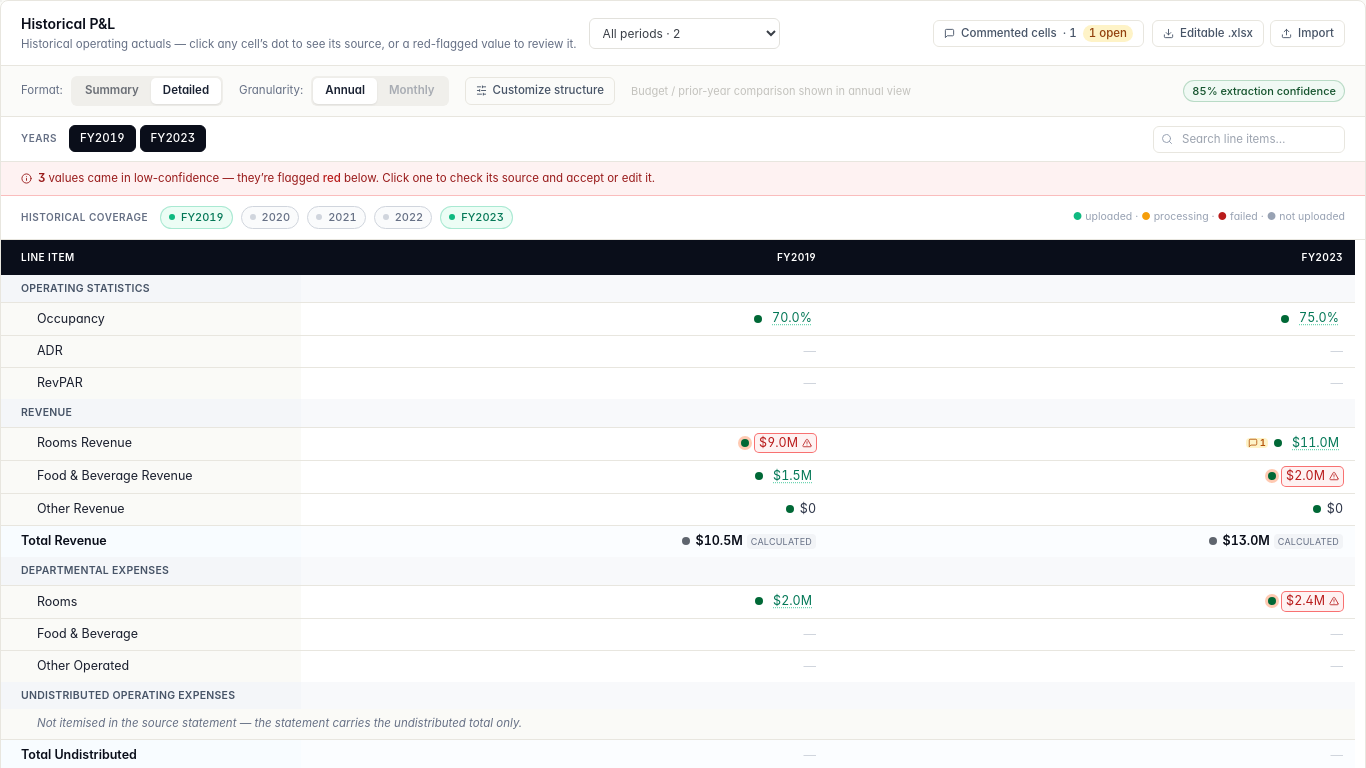
Historical P&L — cell comments (E-011) › opens the thread with its history, adds a comment, then resolves it
Click the button "1".
click(1257, 443)  # box [1246,438,1268,448]
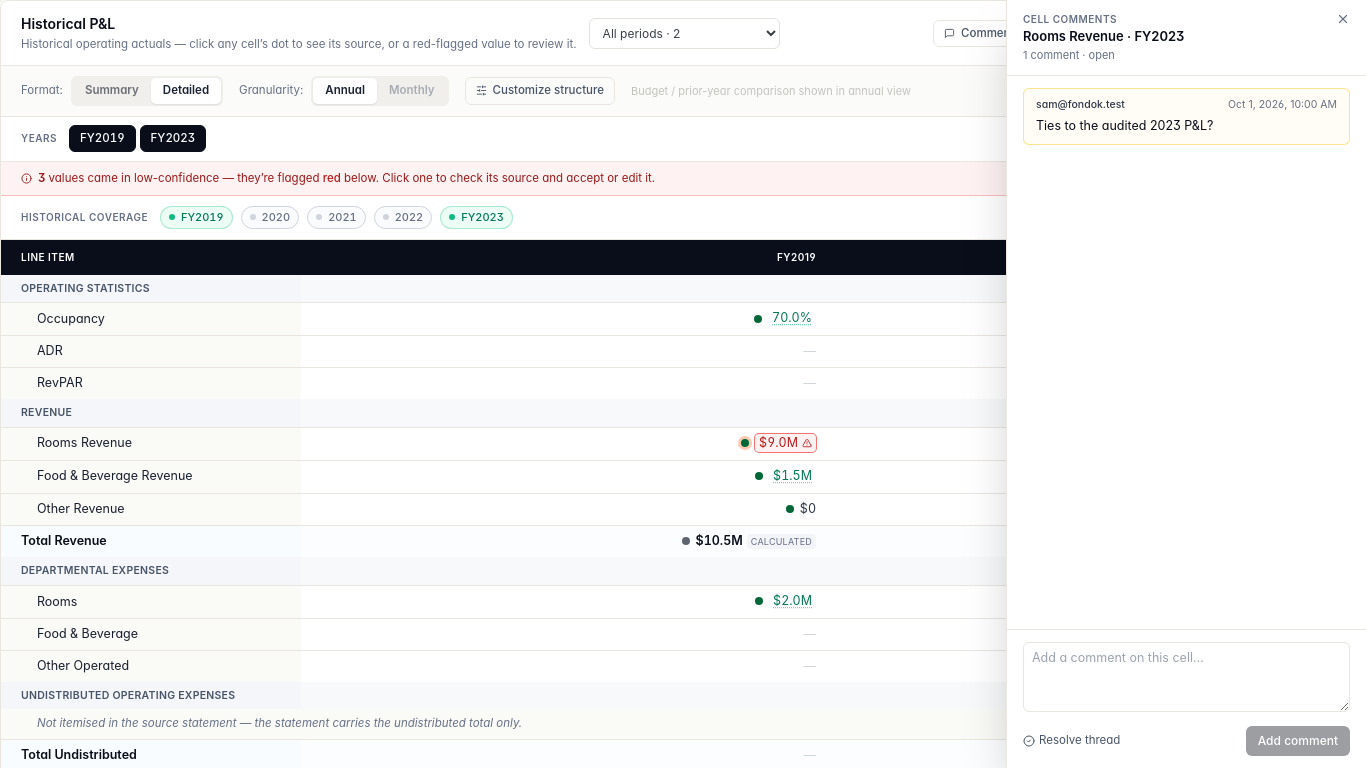
expect the text "Ties to the audited 2023 P&L?" is shown: met, box [1036,118,1213,133]
expect the text "sam@fondok.test" is shown: met, box [1036,97,1125,113]
Type "Broker confirmed." into the text box named "New comment".
click(1186, 677); type("Broker confirmed.")  # box [1023,642,1350,712]
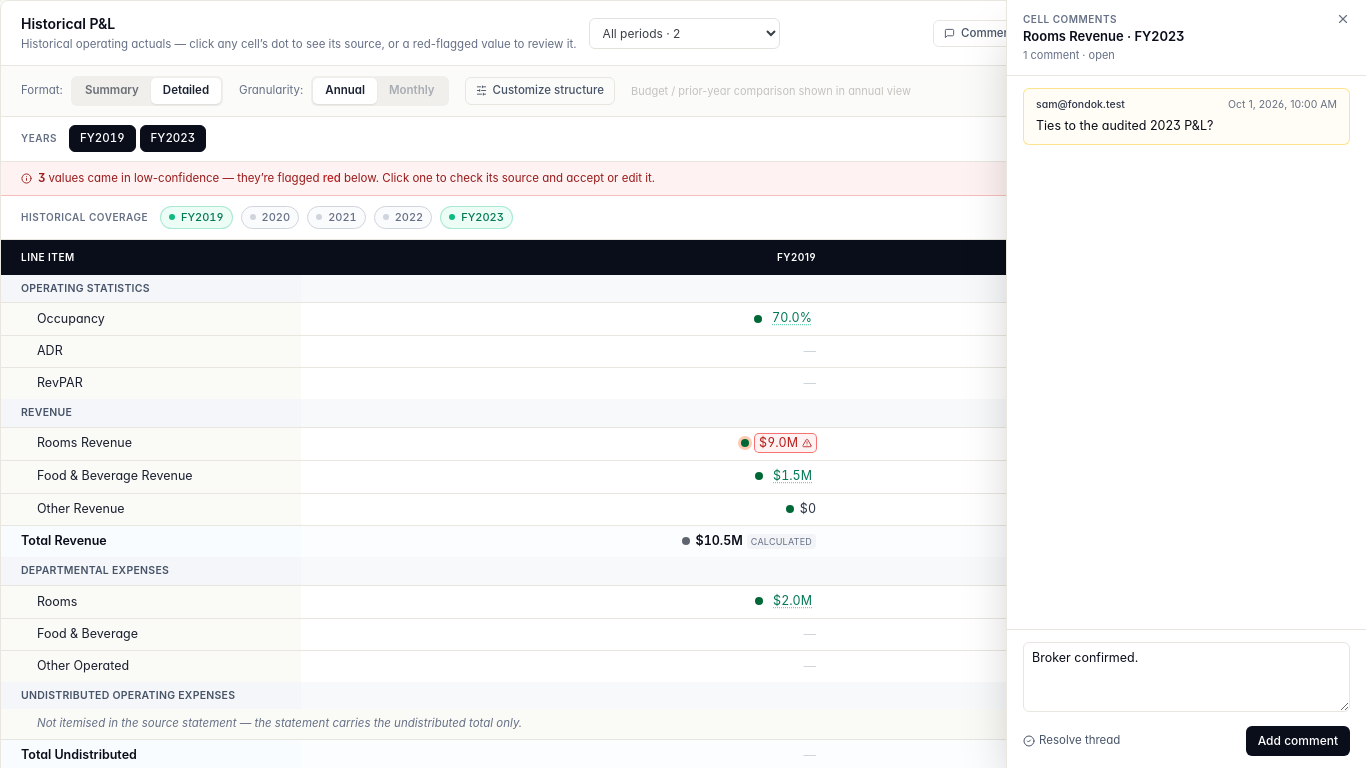
Click the button "Add comment".
click(1298, 741)  # box [1246,726,1350,756]
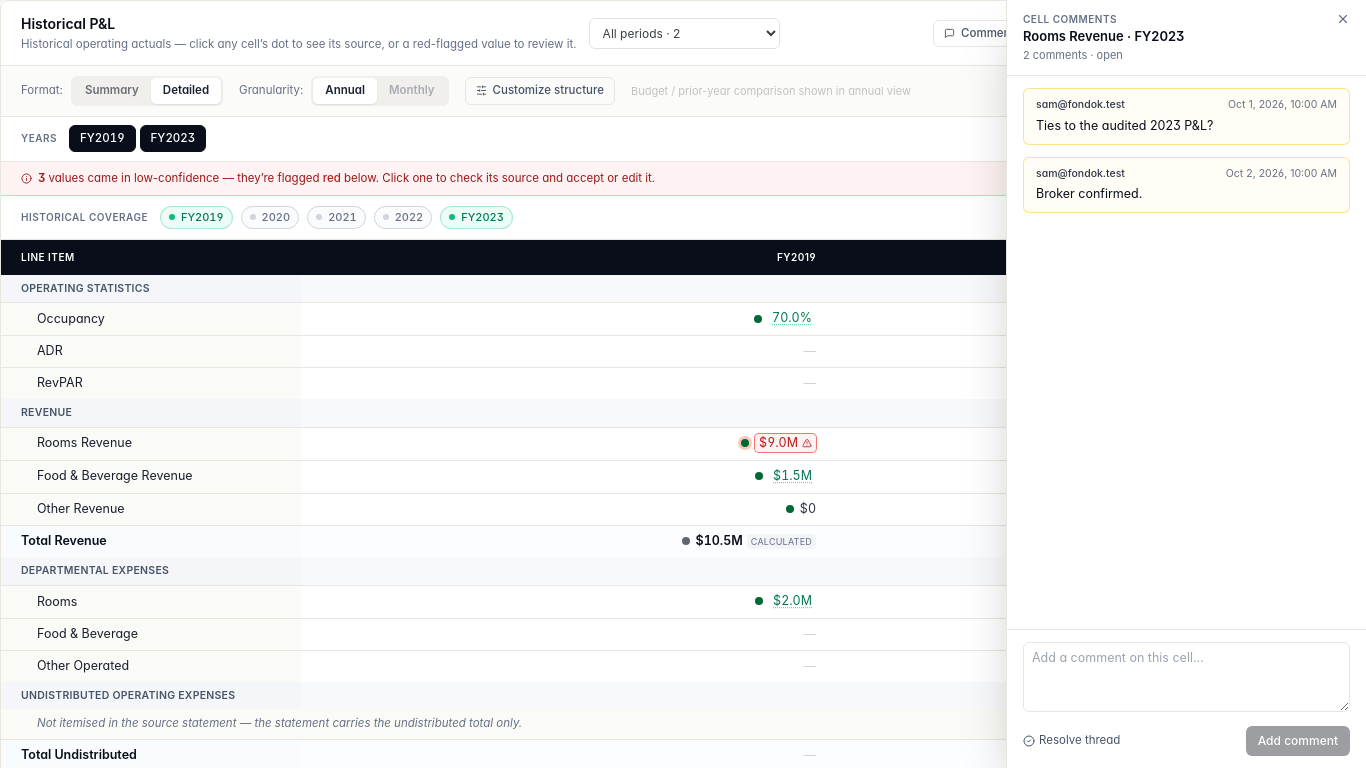
expect the text "Broker confirmed." is shown: met, box [1036,186,1142,201]
Click the button "Resolve thread".
click(1072, 741)  # box [1023,732,1120,750]
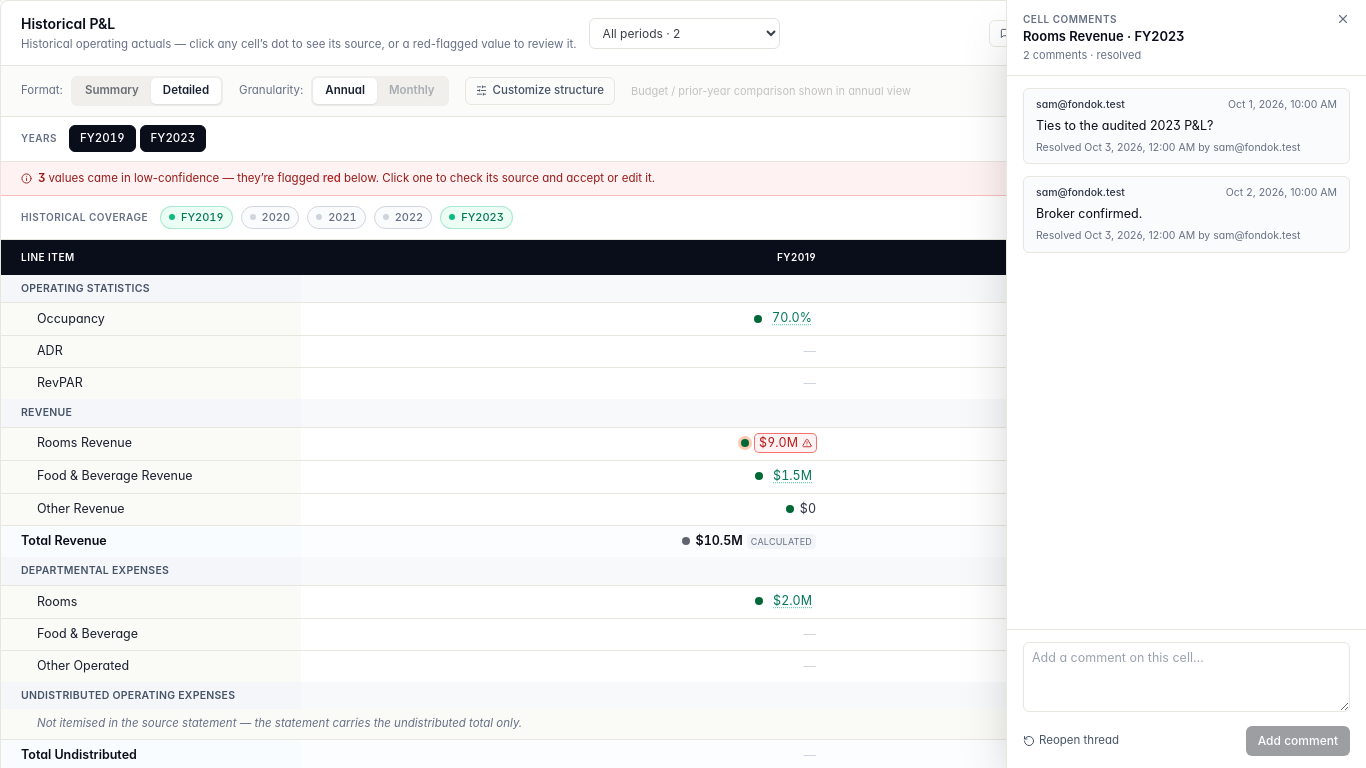
expect the text "Ties to the audited 2023 P&L?" is shown: met, box [1036,118,1213,133]
expect the button "Reopen thread" is shown: met, box [1023,732,1119,750]
